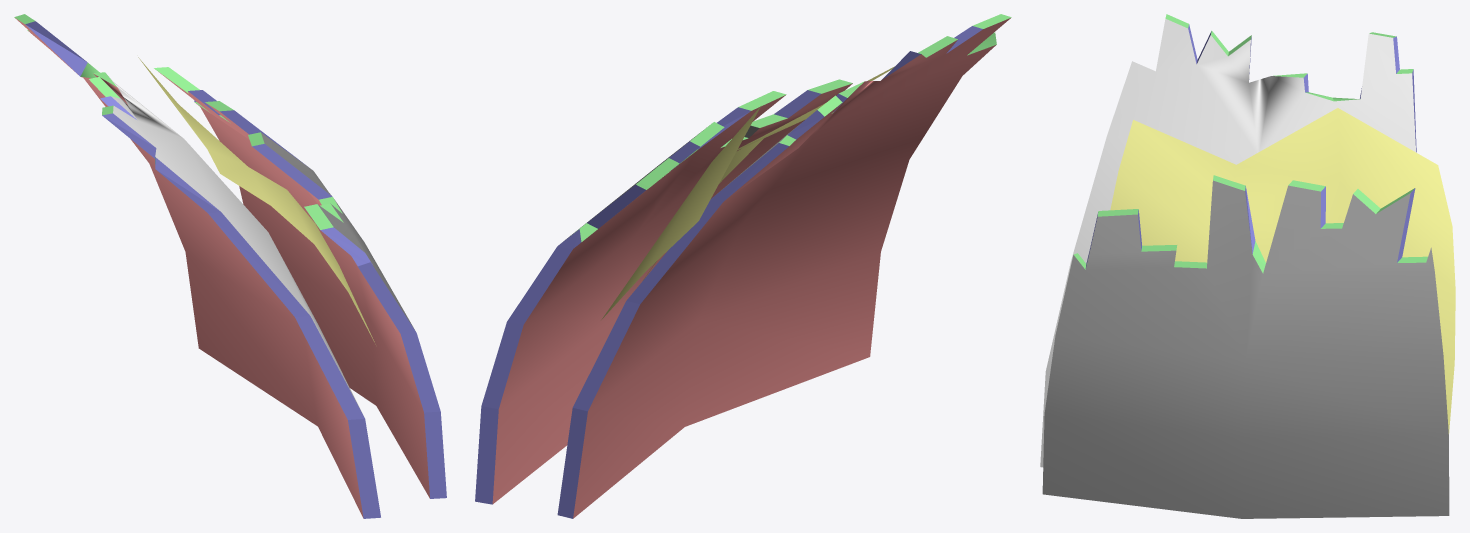
The model's file is PM_Plain_SetOBJ_04.gltf.
The picture shows the model from 3 angles, left to right: view 1: azimuth 30°, elevation 25°; view 2: azimuth 150°, elevation 25°; view 3: azimuth 270°, elevation 25°; orthographic projection. The views are drawn at different scales.
Parts seen in each view (by area): view 1: PM_Plain_SetOBJ_04; view 2: PM_Plain_SetOBJ_04; view 3: PM_Plain_SetOBJ_04.
Boxes of the visible parts, left/top/right/bottom form: PM_Plain_SetOBJ_04: left=14, top=14, right=446, bottom=518; PM_Plain_SetOBJ_04: left=475, top=14, right=1011, bottom=518; PM_Plain_SetOBJ_04: left=1040, top=14, right=1455, bottom=518.
Size of the model in its own units: 1.12 by 1.3 by 1.35.
